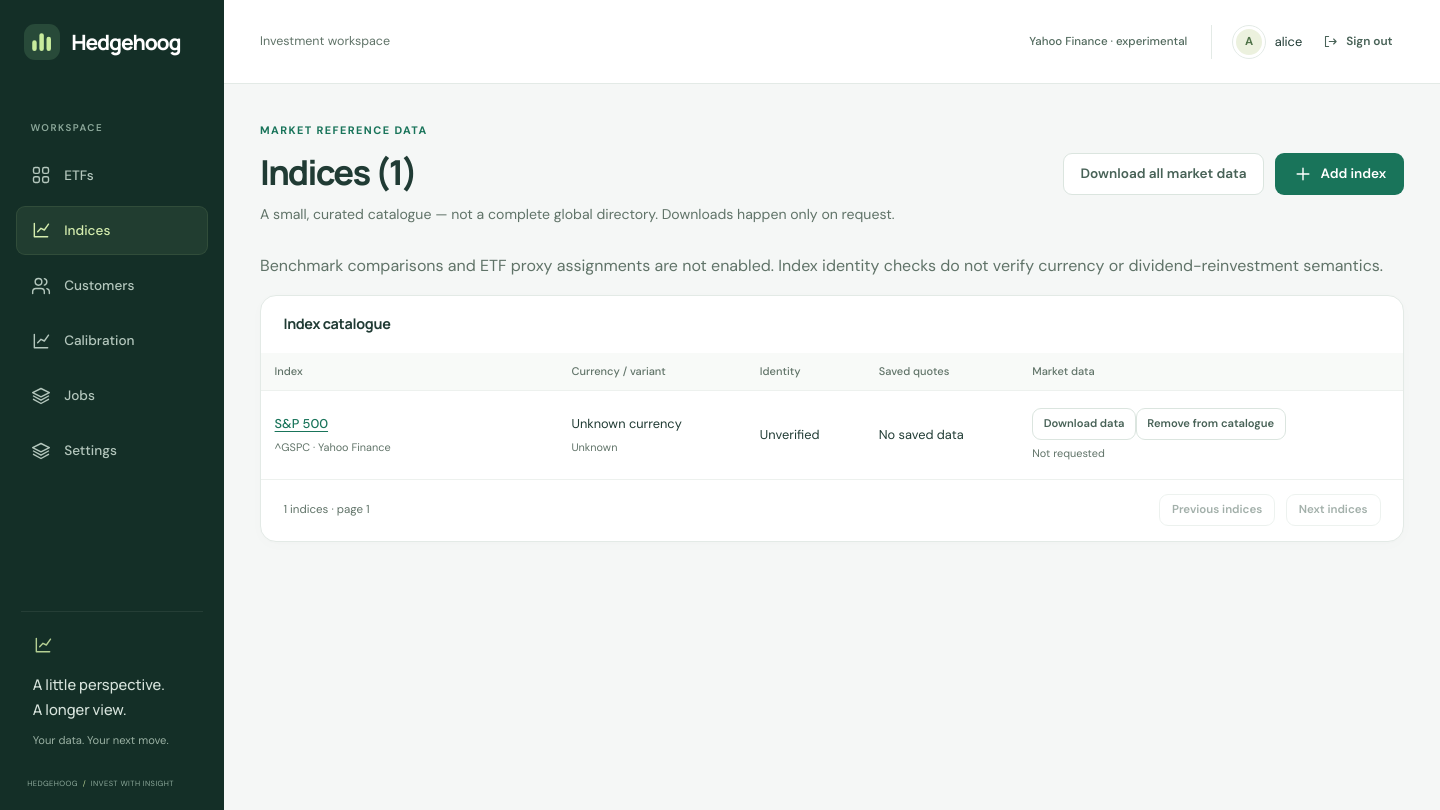
Test: confirms catalogue removal, supports cancel and refreshes the list
Click the button with aria-label "Remove S&P 500 from catalogue" at [1211, 424], box x1=1136 y1=408 x2=1286 y2=440
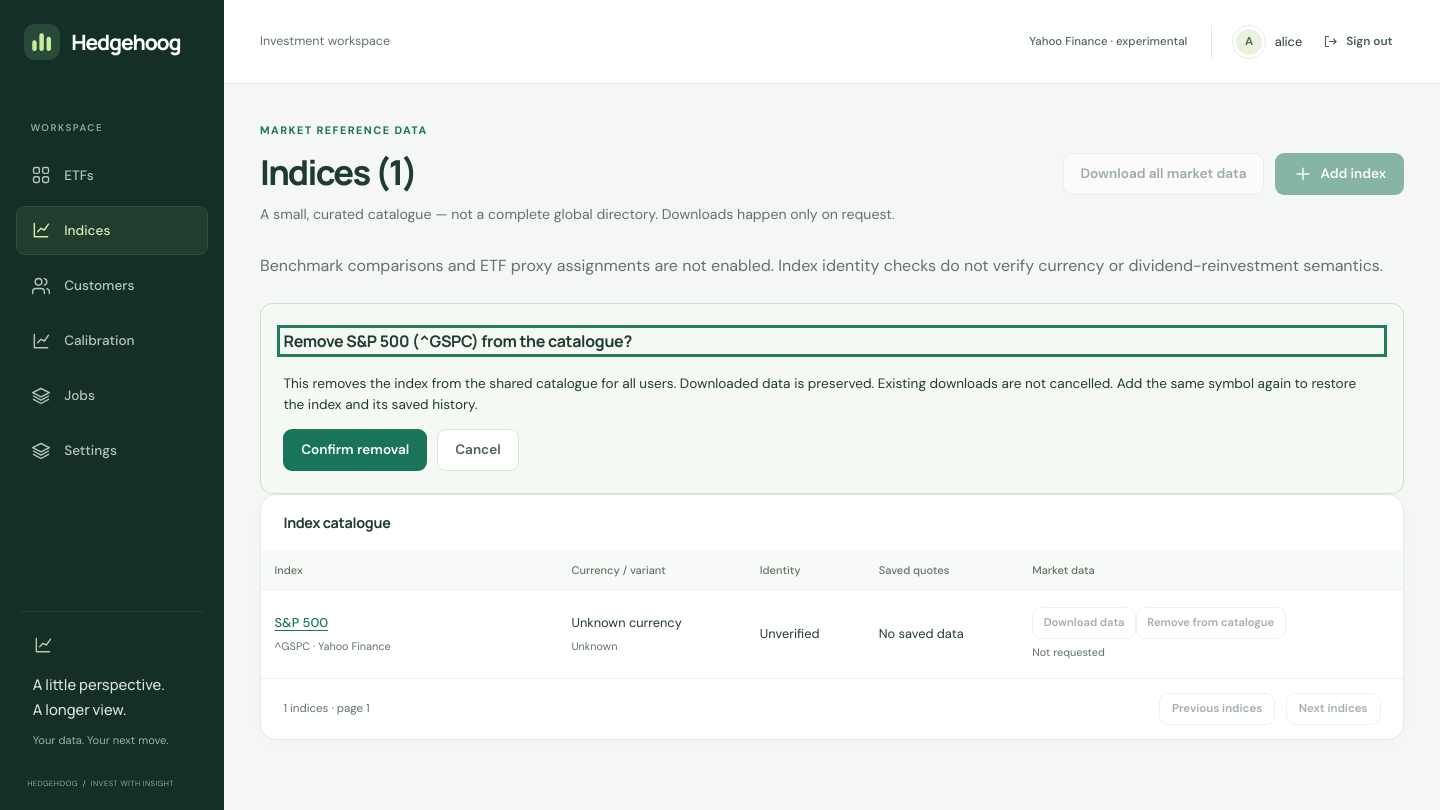
expect the text "Downloaded data is preserved" is shown: met, box x1=283 y1=375 x2=1356 y2=413
Click the button "Cancel" at [478, 450], box x1=437 y1=429 x2=519 y2=471
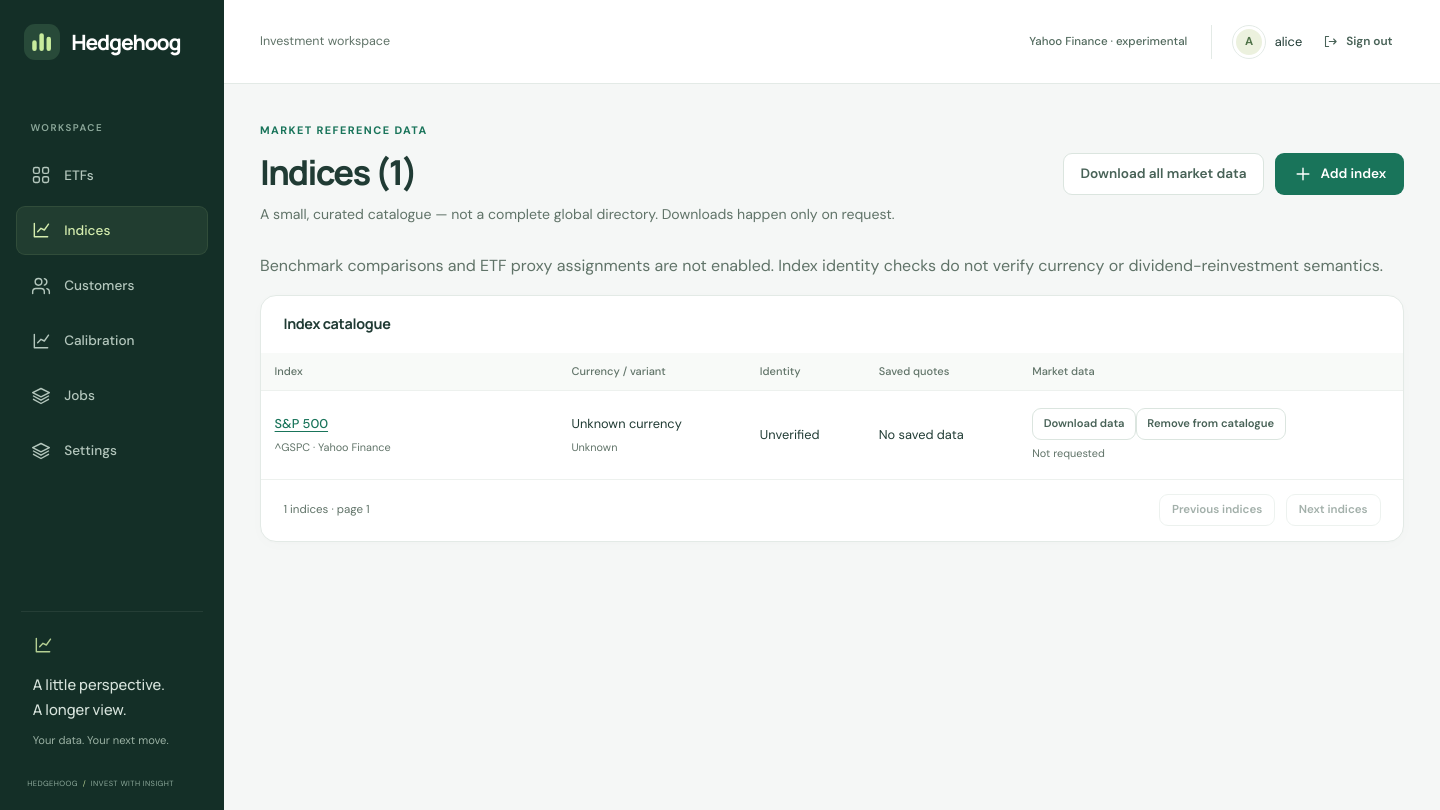
Click the button with aria-label "Remove S&P 500 from catalogue" at [1211, 424], box x1=1136 y1=408 x2=1286 y2=440
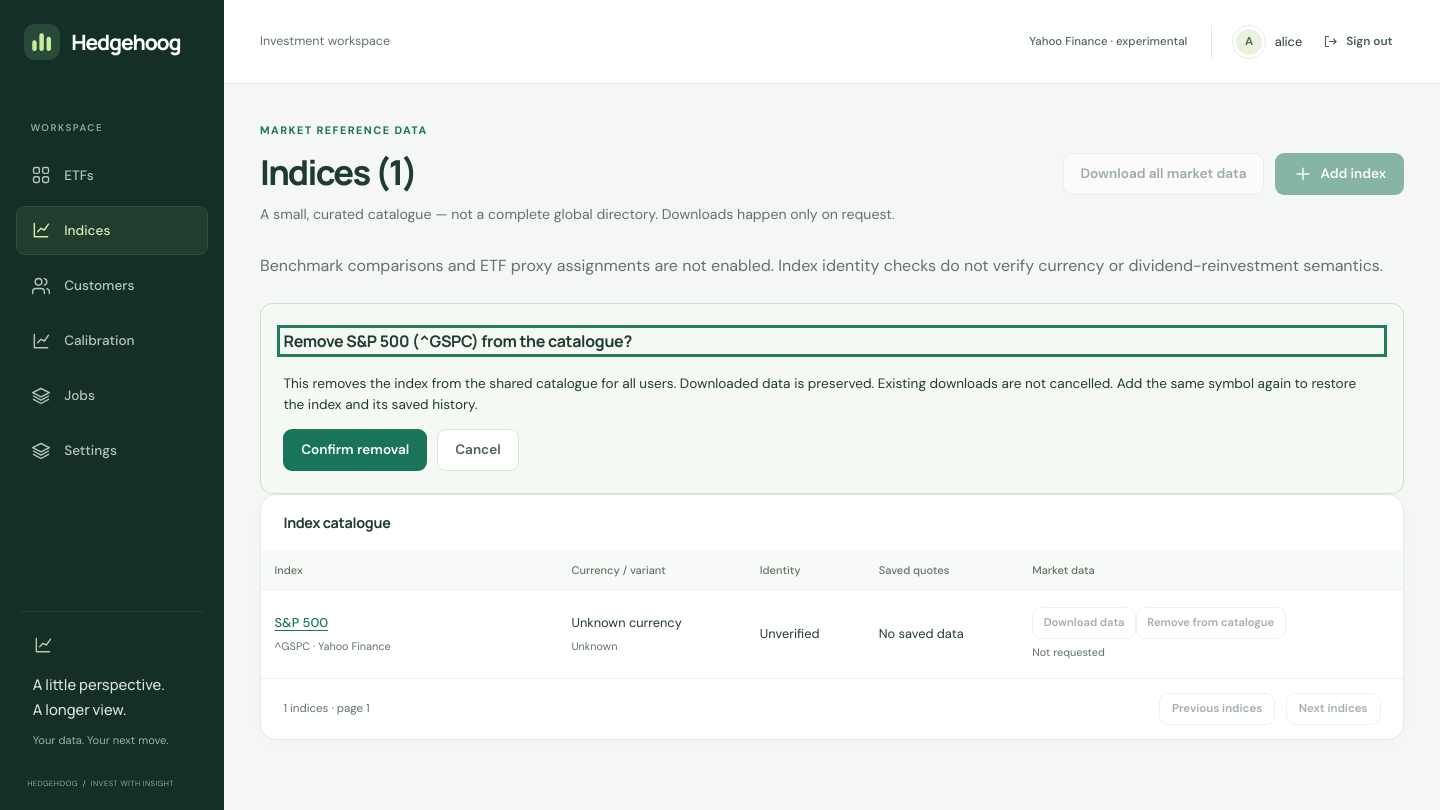
Click the button "Confirm removal" at [355, 450], box x1=283 y1=429 x2=427 y2=471
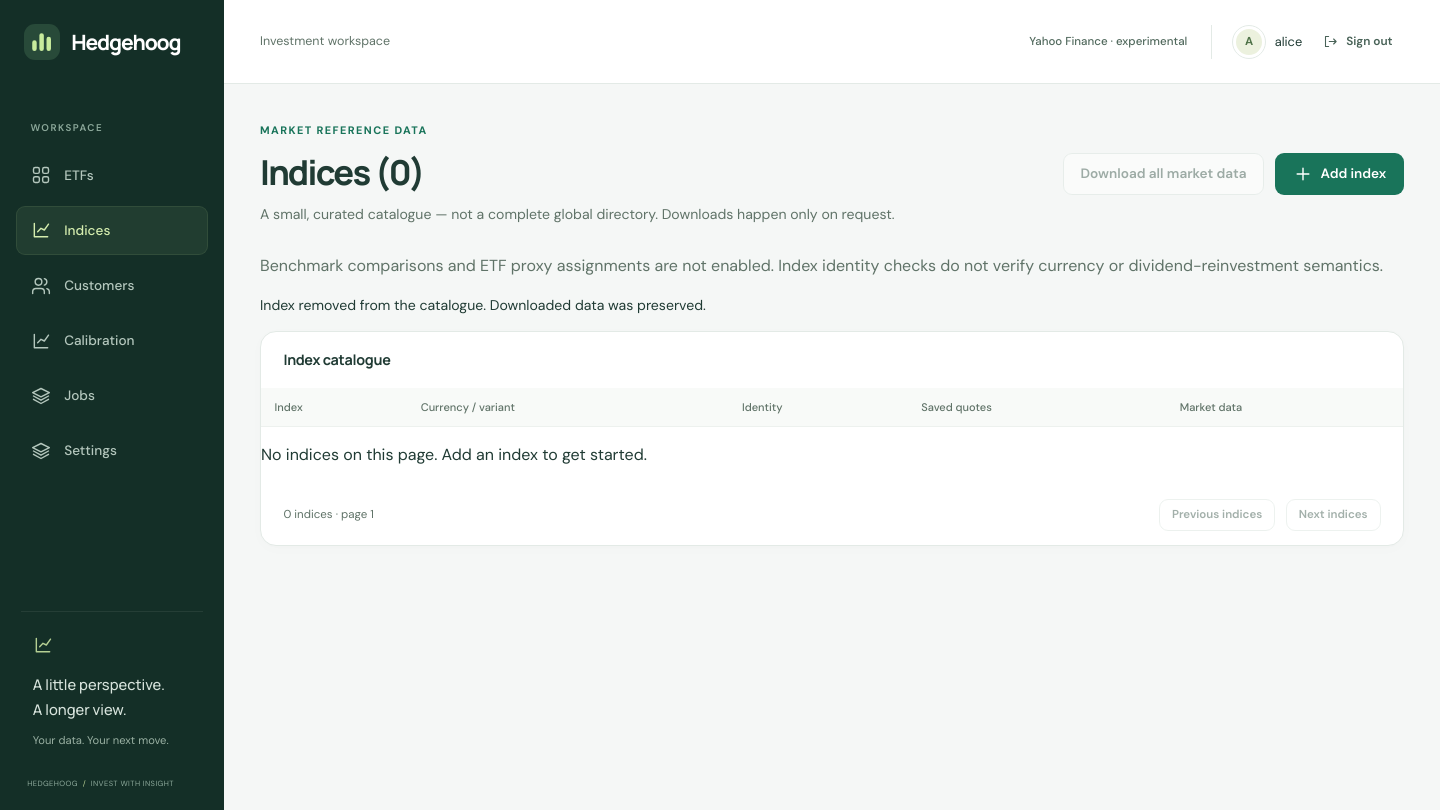
expect the heading "Indices (0)" is shown: met, box x1=260 y1=148 x2=424 y2=195
expect the text "Index removed from the catalogue. Downloaded data was preserved." is shown: met, box x1=260 y1=296 x2=706 y2=314
